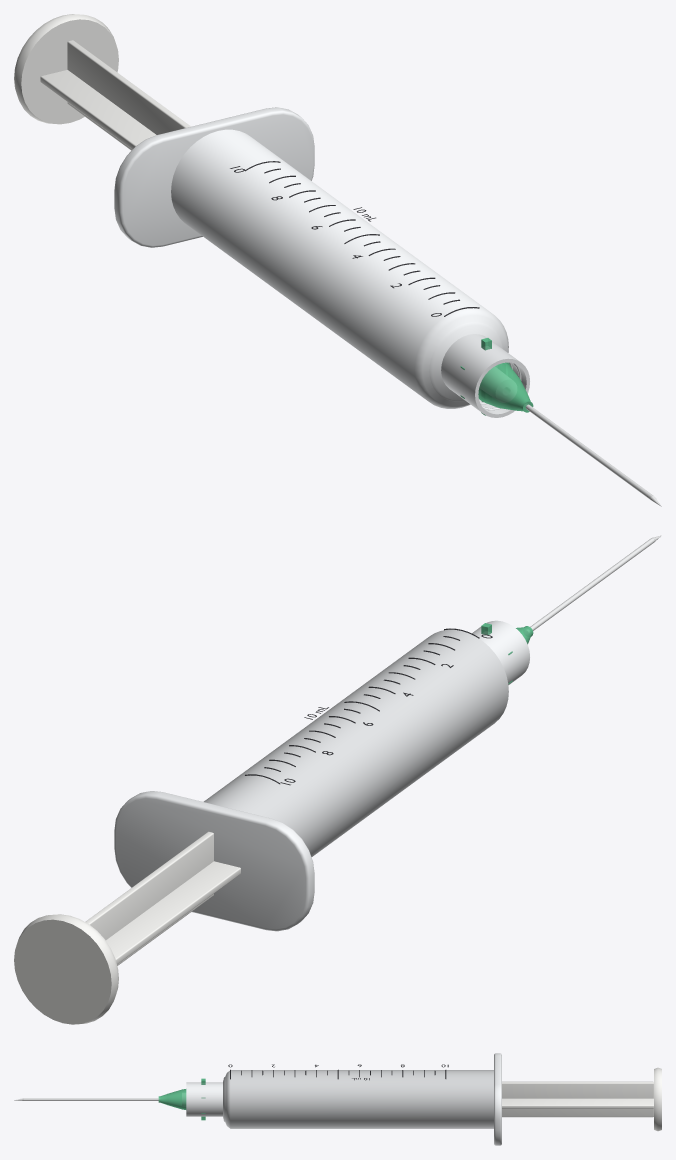
File: seringue.glb
3 renders of one model, top to bottom at view 1: azimuth 30°, elevation 25°; view 2: azimuth 150°, elevation 25°; view 3: azimuth 270°, elevation 25°, orthographic. The views are drawn at different scales.
Visible parts, largest first — view 1: seringue, Piston, Aiguille; view 2: seringue, Piston, Aiguille; view 3: seringue, Piston, Aiguille.
Part boxes in pixels (x1=…): seringue: x1=114, y1=107, x2=529, y2=417; Piston: x1=14, y1=14, x2=190, y2=150; Aiguille: x1=460, y1=338, x2=661, y2=506; seringue: x1=114, y1=620, x2=529, y2=931; Piston: x1=14, y1=831, x2=240, y2=1024; Aiguille: x1=481, y1=535, x2=661, y2=684; seringue: x1=183, y1=1053, x2=501, y2=1145; Piston: x1=502, y1=1067, x2=661, y2=1131; Aiguille: x1=14, y1=1078, x2=205, y2=1120.
Bounding box in the file's own units: 0.034 × 0.018 × 0.1805.
